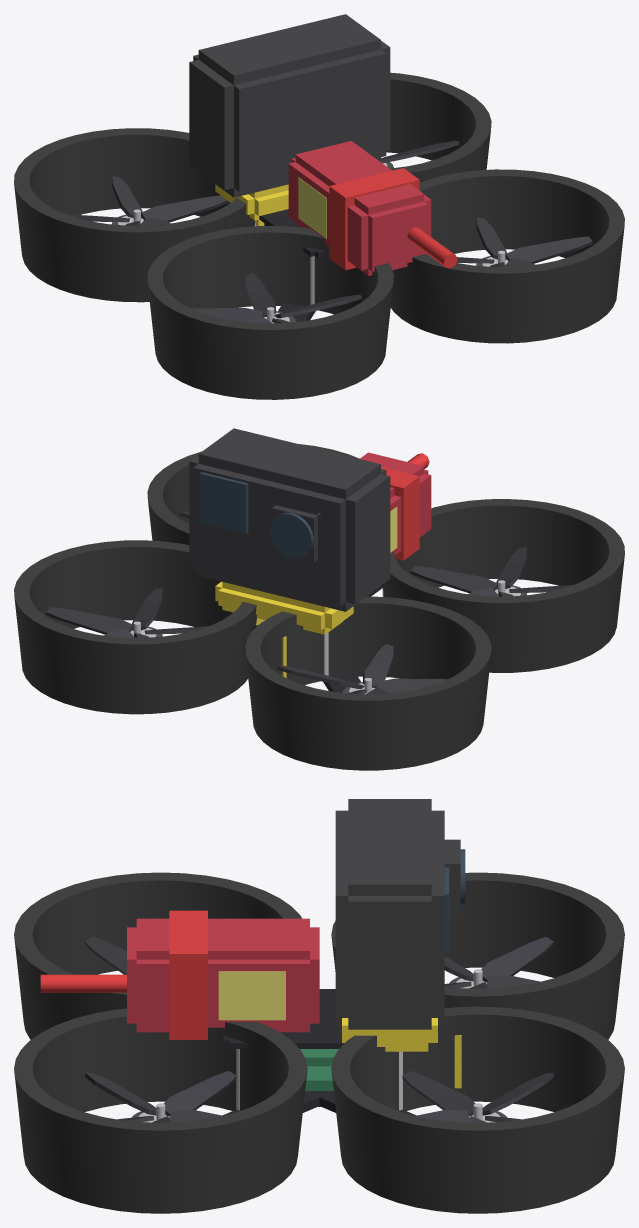
Rendered from cinewhoop3.glb.
3 views of the same model, one above another, from view 1: azimuth 30°, elevation 25°; view 2: azimuth 150°, elevation 25°; view 3: azimuth 270°, elevation 25° (orthographic). The views are drawn at different scales.
Visible parts, largest first — view 1: body, prop_FL, prop_RR, prop_RL, prop_FR; view 2: body, prop_FR, prop_RL, prop_FL; view 3: body, prop_FR, prop_RR, prop_FL, prop_RL.
Boxes of the visible parts, <box> form: body: <box>14,14,624,399</box>; prop_FL: <box>66,176,228,225</box>; prop_RR: <box>456,217,592,266</box>; prop_RL: <box>191,273,361,323</box>; prop_FR: <box>381,140,459,163</box>; body: <box>14,428,624,770</box>; prop_FR: <box>46,588,207,637</box>; prop_RL: <box>410,546,572,596</box>; prop_FL: <box>277,644,446,694</box>; body: <box>14,799,624,1213</box>; prop_FR: <box>402,1071,553,1122</box>; prop_RR: <box>85,1071,236,1122</box>; prop_FL: <box>318,936,553,1106</box>; prop_RL: <box>85,936,126,974</box>.
Size of the model in its own units: 0.1906 by 0.0893 by 0.1906.
